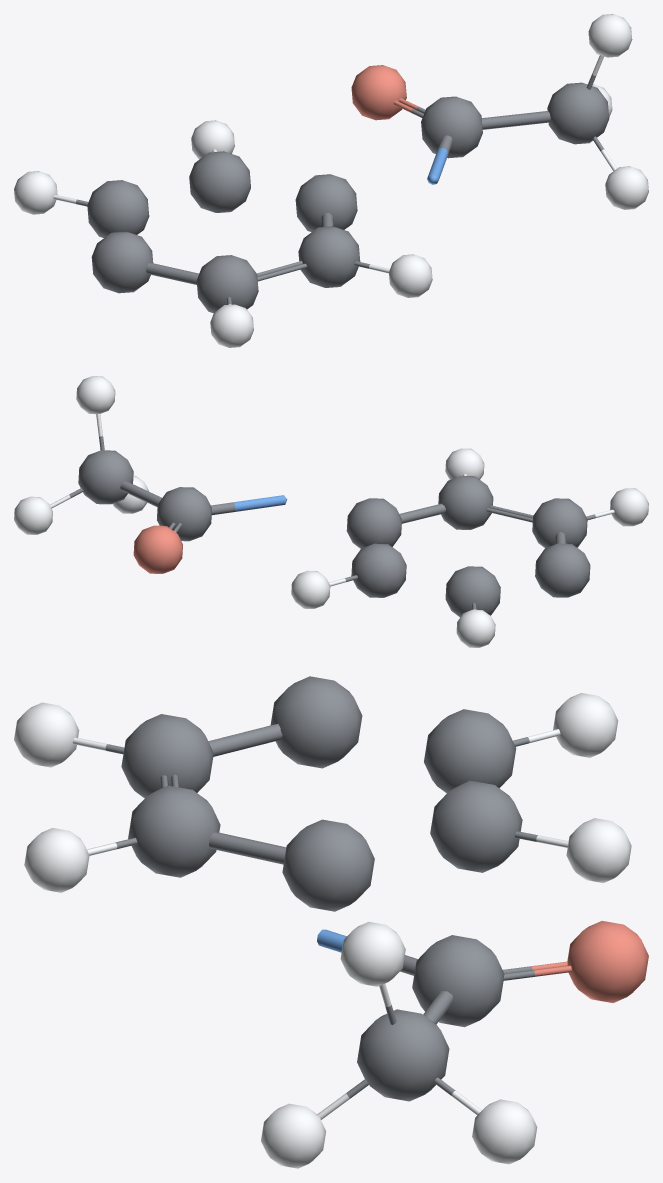
The model's file is acetaminophenstatic.glb.
3 views of the same model, one above another, from view 1: azimuth 30°, elevation 25°; view 2: azimuth 150°, elevation 25°; view 3: azimuth 270°, elevation 25° (orthographic). The views are drawn at different scales.
Parts seen in each view (by area): view 1: node-geom46.001, node-geom38.001, node-geom42.001, node-geom44.001, node-geom39.001, node-geom45.001, node-geom43.001, node-geom41.001, node-geom48.001, node-geom51.001, node-geom50.001, node-geom54.001 (+5 smaller); view 2: node-geom44.001, node-geom46.001, node-geom38.001, node-geom42.001, node-geom41.001, node-geom39.001, node-geom45.001, node-geom43.001, node-geom48.001, node-geom55, node-geom49.001, node-geom51.001 (+7 smaller); view 3: node-geom41.001, node-geom46.001, node-geom38.001, node-geom44.001, node-geom42.001, node-geom39.001, node-geom45.001, node-geom43.001, node-geom48.001, node-geom56, node-geom49.001, node-geom50.001 (+6 smaller).
Part boxes in pixels (x1,y1,x2,y2): node-geom46.001: (189,151,250,212); node-geom38.001: (547,82,609,144); node-geom42.001: (298,226,360,287); node-geom44.001: (91,231,153,293); node-geom39.001: (421,96,482,158); node-geom45.001: (87,180,149,237); node-geom43.001: (196,255,258,313); node-geom41.001: (295,174,357,232); node-geom48.001: (351,65,406,120); node-geom51.001: (588,14,632,57); node-geom50.001: (605,166,648,209); node-geom54.001: (210,304,253,347); node-geom44.001: (535,543,590,597); node-geom46.001: (351,543,406,597); node-geom38.001: (78,450,133,504); node-geom42.001: (438,476,493,529); node-geom41.001: (346,498,401,548); node-geom39.001: (157,487,211,541); node-geom45.001: (445,566,500,617); node-geom43.001: (532,498,587,548); node-geom48.001: (133,525,182,573); node-geom55: (456,609,495,647); node-geom49.001: (14,496,52,534); node-geom51.001: (76,376,115,414); node-geom41.001: (282,819,374,911); node-geom46.001: (430,780,522,872); node-geom38.001: (357,1009,449,1101); node-geom44.001: (270,676,362,768); node-geom42.001: (128,785,220,877); node-geom39.001: (412,935,504,1027); node-geom45.001: (424,709,516,793); node-geom43.001: (121,714,213,798); node-geom48.001: (567,921,648,1002); node-geom56: (566,818,631,882); node-geom49.001: (472,1099,537,1164); node-geom50.001: (261,1103,325,1168).
Bounding box in the file's own units: 7.77 × 2.18 × 5.06.
